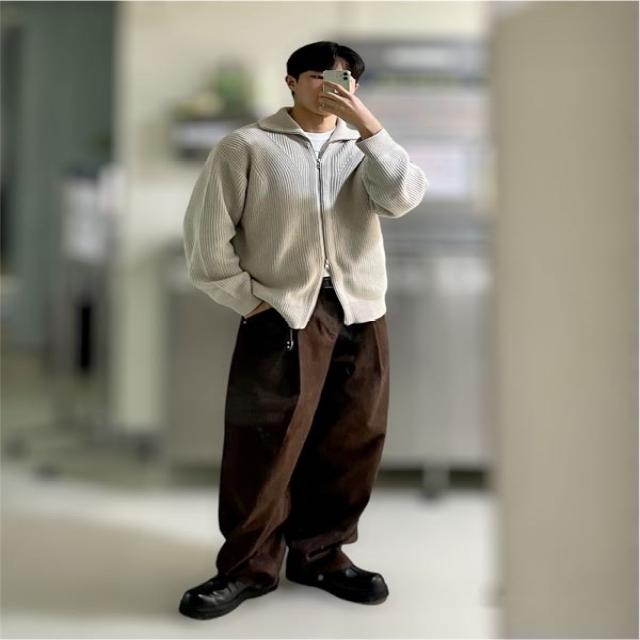cardigan: (189, 104, 423, 332)
cottonpants: (219, 280, 388, 575)
